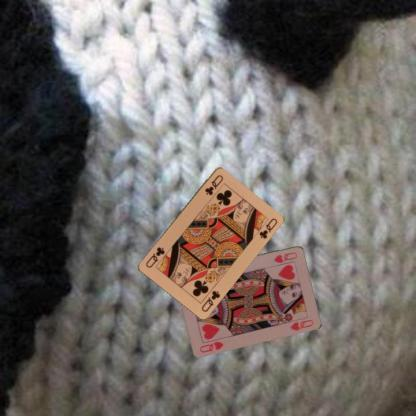Qc: (198, 288, 221, 314), (202, 172, 224, 196)
Qh: (197, 338, 225, 354), (271, 249, 299, 264)
